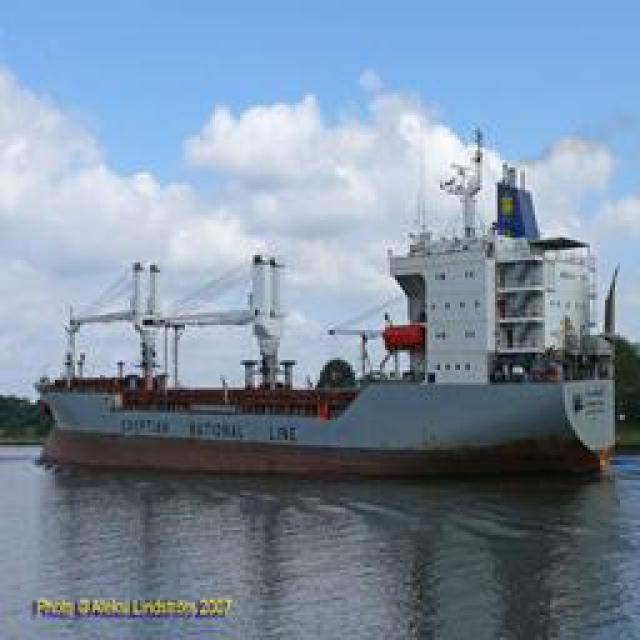Ship: (42, 181, 632, 474)
